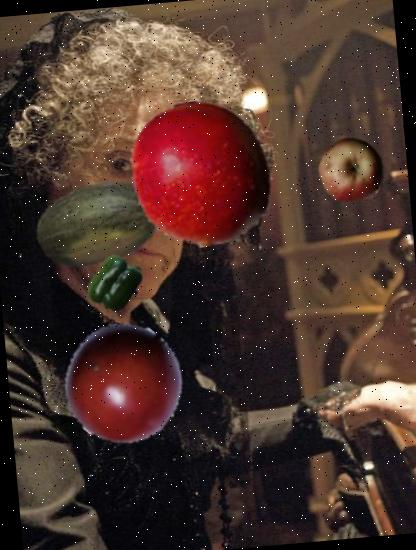Apple: (316, 135, 388, 208)
Melon: (32, 158, 166, 292)
Nectarine: (122, 95, 280, 253)
Pepper: (86, 254, 146, 314)
Tamarillo: (58, 319, 189, 450)
